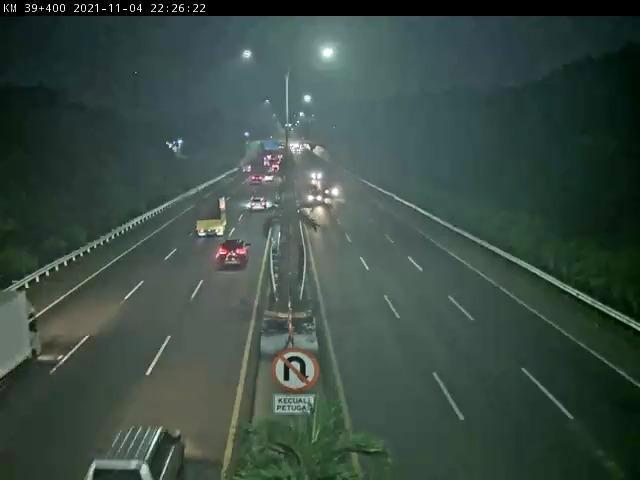car: (87, 426, 187, 480), (217, 239, 249, 268), (250, 196, 268, 212), (308, 191, 324, 205), (324, 184, 339, 198), (310, 169, 326, 179), (252, 174, 263, 184), (265, 174, 274, 182)
truck: (2, 289, 41, 399), (195, 195, 229, 235)
